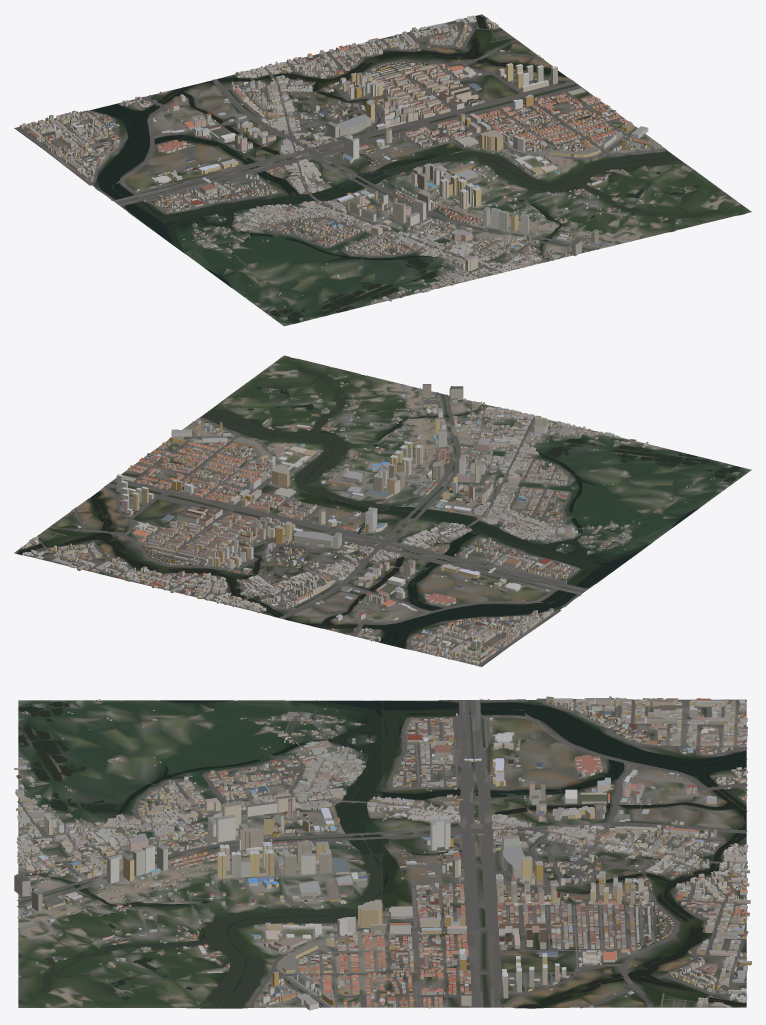
3 renders of one model, top to bottom at view 1: azimuth 30°, elevation 25°; view 2: azimuth 150°, elevation 25°; view 3: azimuth 270°, elevation 25°, orthographic. The views are drawn at different scales.
Visible parts, largest first — view 1: ground, buildings, water, roads; view 2: ground, buildings, water, roads; view 3: ground, buildings, water, roads.
Part boxes in pixels (box(x1,y1,x2,y2)): ground: box(14, 14, 751, 326); buildings: box(19, 15, 681, 320); water: box(90, 15, 743, 323); roads: box(15, 18, 665, 302); ground: box(14, 355, 751, 666); buildings: box(20, 376, 730, 665); water: box(17, 358, 740, 648); roads: box(23, 383, 672, 666); ground: box(18, 699, 746, 1008); buildings: box(14, 696, 751, 1010); water: box(18, 700, 747, 1008); roads: box(17, 698, 748, 1008).
Size of the model in its own units: 2838 by 115 by 2837.
